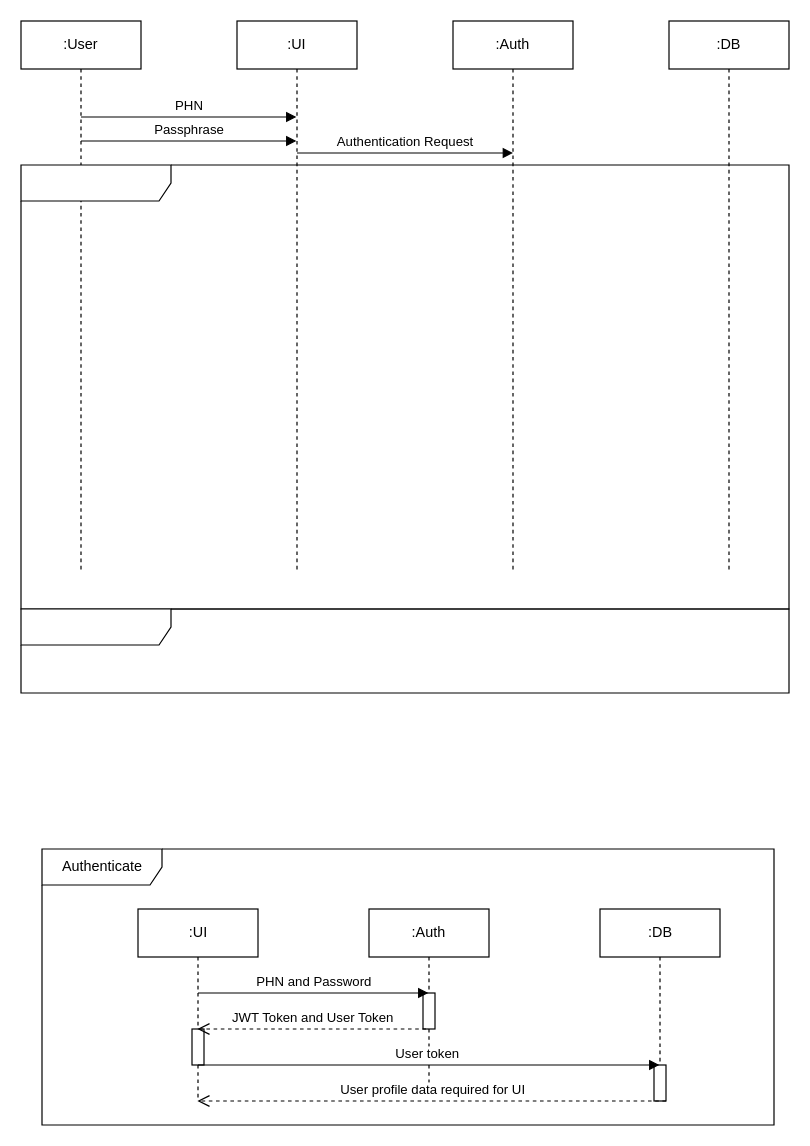
Some shapes in this 810 by 1146 pixel diagram are drawn without their labels. The shapes that lost their labels are listed below. From the top down, each one's centre as x and y in pixels, then its label:
At pixel 404 386: "Valid Authentication".
At pixel 404 650: "Invalid Authentication".
